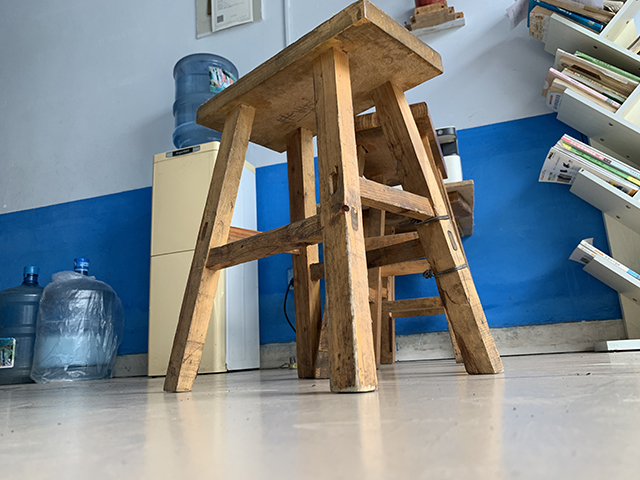stool: (162, 1, 506, 395), (313, 99, 479, 379)
